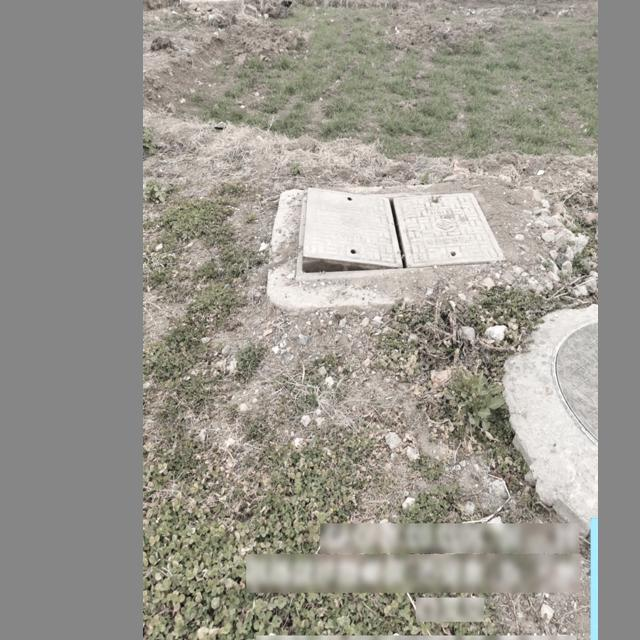uncovered: (297, 184, 507, 280)
